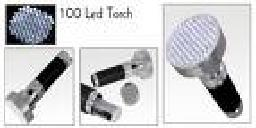LED: (164, 15, 223, 75), (9, 5, 54, 45)
